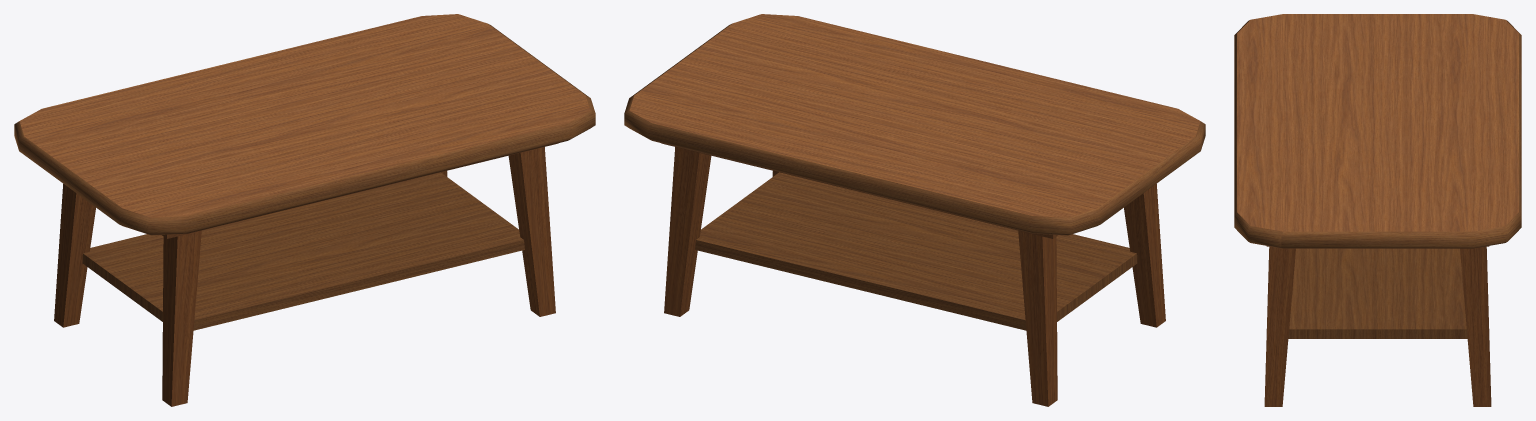
File: walnut_coffee_table.glb
3 views of the same model, side by side, from view 1: azimuth 30°, elevation 25°; view 2: azimuth 150°, elevation 25°; view 3: azimuth 270°, elevation 25° (orthographic). The views are drawn at different scales.
Parts seen in each view (by area): view 1: walnut_coffee_table; view 2: walnut_coffee_table; view 3: walnut_coffee_table.
Boxes of the visible parts, x1=… form: walnut_coffee_table: x1=14, y1=14, x2=595, y2=406; walnut_coffee_table: x1=624, y1=14, x2=1205, y2=406; walnut_coffee_table: x1=1234, y1=14, x2=1521, y2=406.
Bounding box in the file's own units: 1.06 × 0.432 × 0.58.
1 material, 1 textured.
